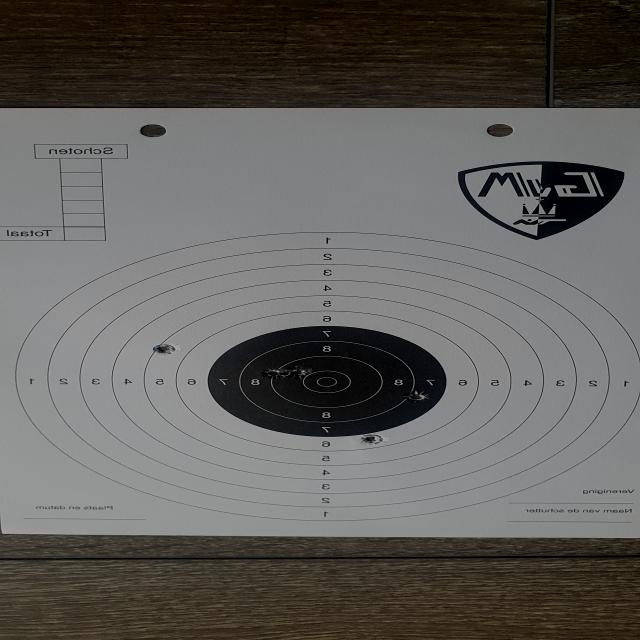5: (147, 342, 178, 356)
6: (358, 433, 386, 446)
8: (402, 389, 429, 403)
9: (287, 366, 313, 379), (260, 368, 284, 378)
Target: (15, 230, 640, 523)
black_contour: (209, 327, 447, 438)
